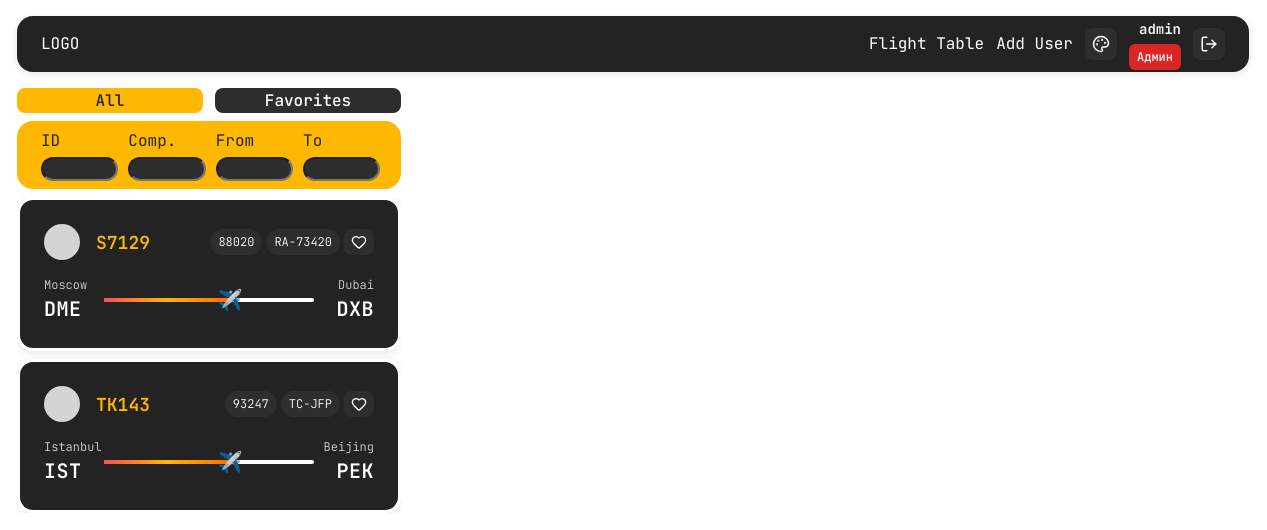
Test: фильтры влияют на список рейсов
The image size is (1267, 530).
Expected: the text "Moscow" is shown, [44,276,87,294]
Note: Вводим фильтр по ID
Type "S7129" into the field labelled "ID". click: (80, 169)
box: [41,157,118,181]
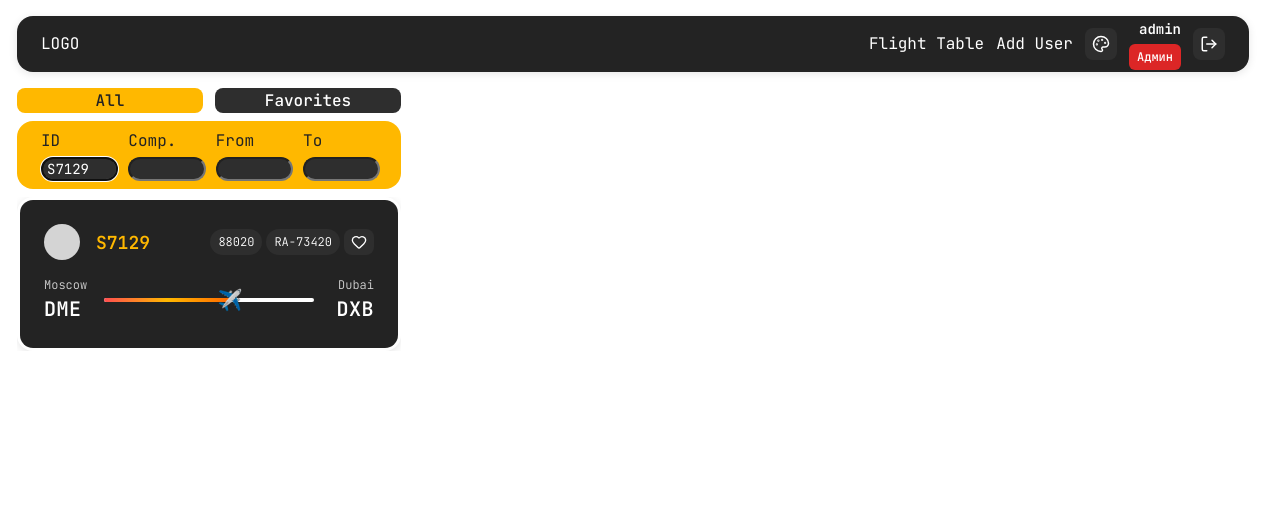
Expected: the text "Moscow" is shown, [44,276,87,294]
Expected: the text "Istanbul" is gone
Note: Очищаем фильтр
Clear the field labelled "ID". click: (80, 169)
box: [41,157,118,181]
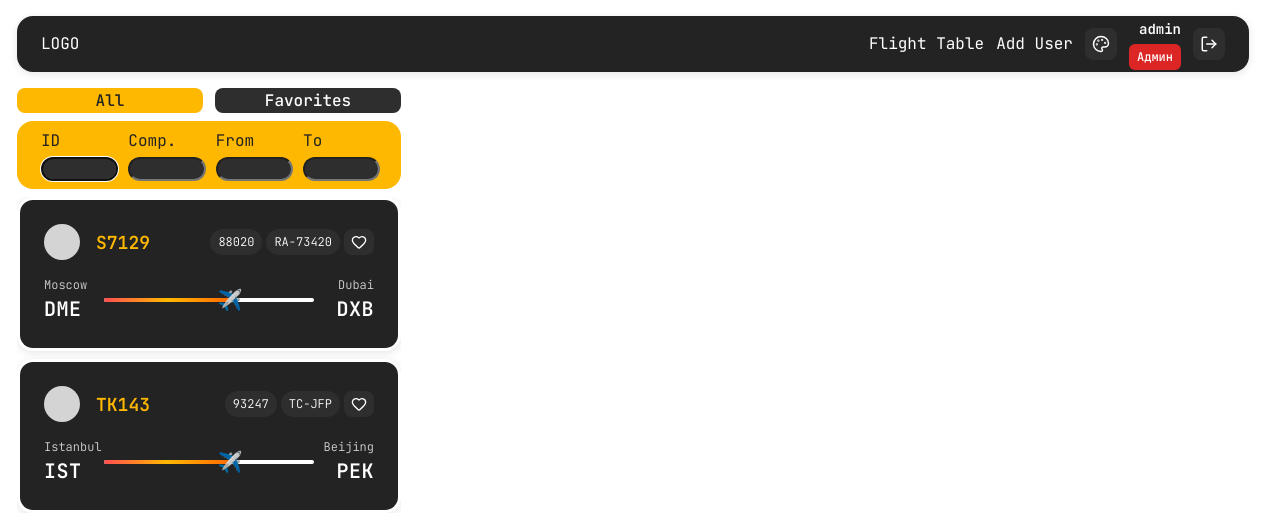
Expected: the text "Moscow" is shown, [44,276,87,294]
Expected: the text "Istanbul" is shown, [44,438,102,456]
